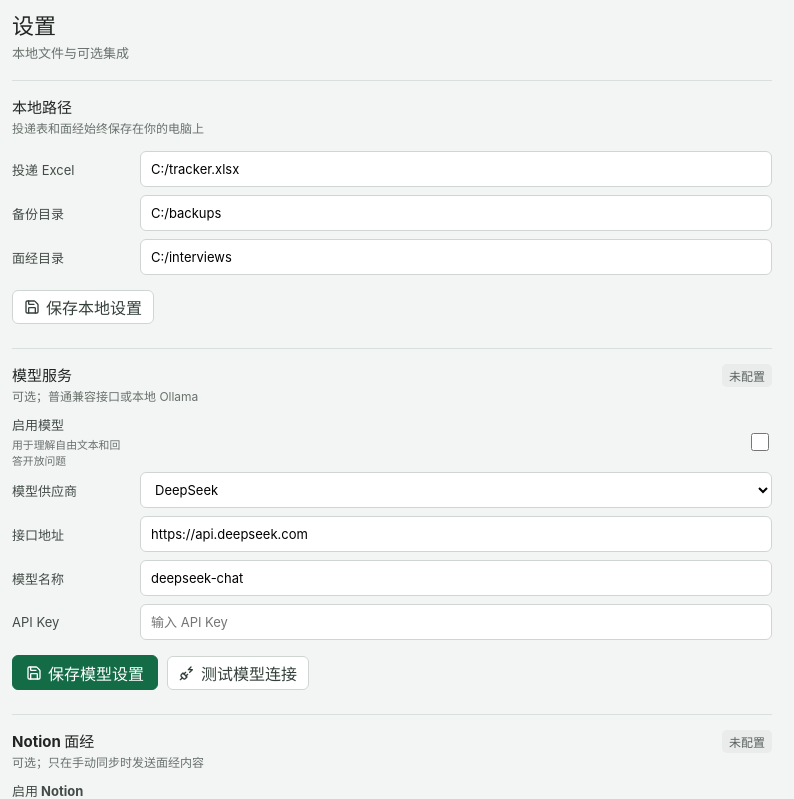
SettingsView integrations › saves a provider key without rendering it back
Step 1. Select "DeepSeek" in the dropdown labelled "模型供应商" → (456, 490), box [140,472,772,508]
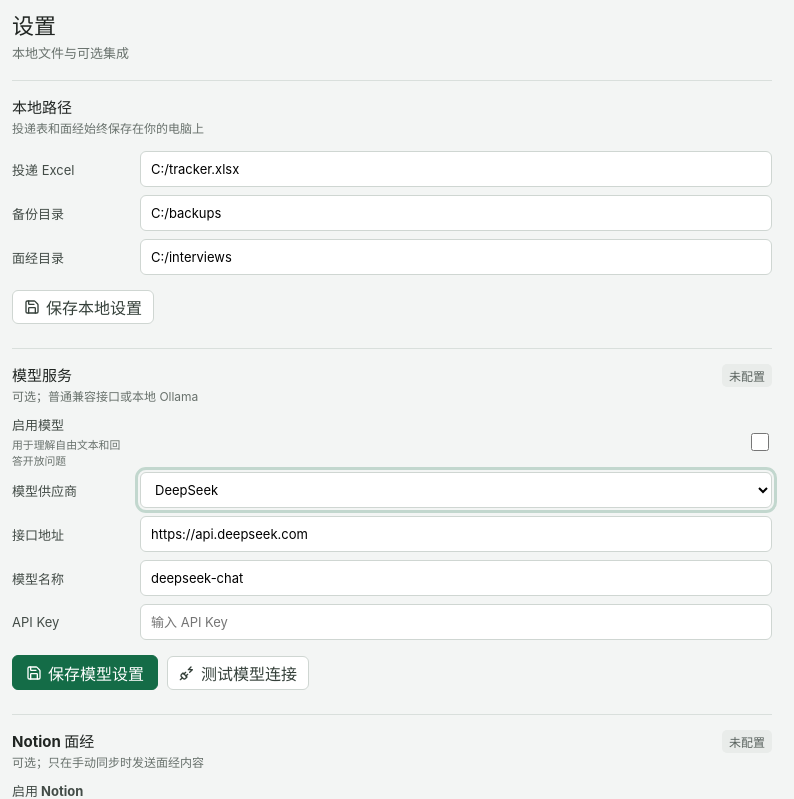
Step 2. Click the checkbox labelled "启用模型" → (760, 442), box [751,432,769,450]
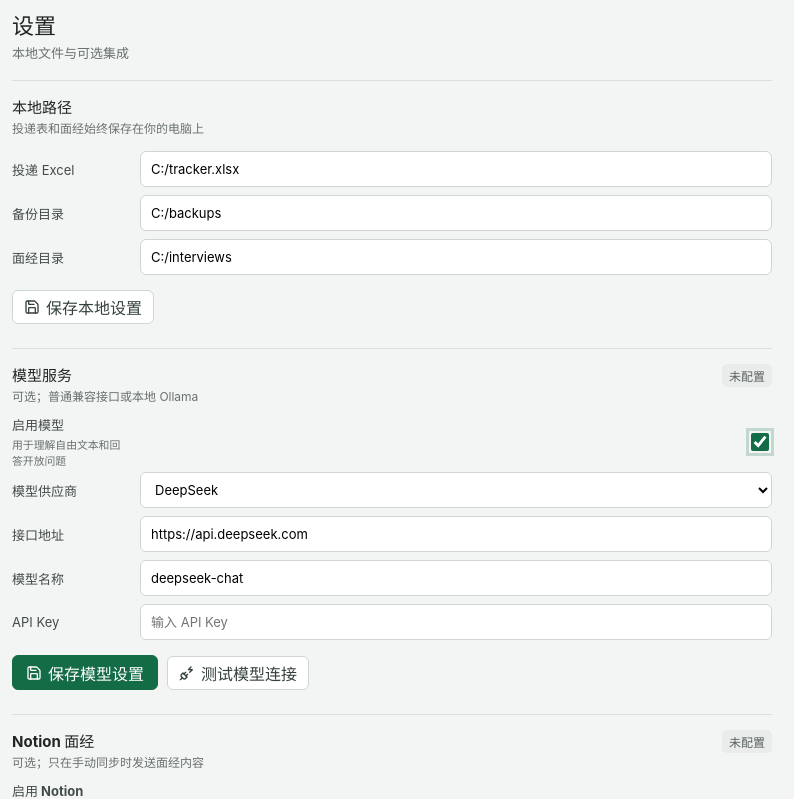
Step 3. Type "secret-value" into the password field labelled "API Key" → (456, 622), box [140,604,772,640]
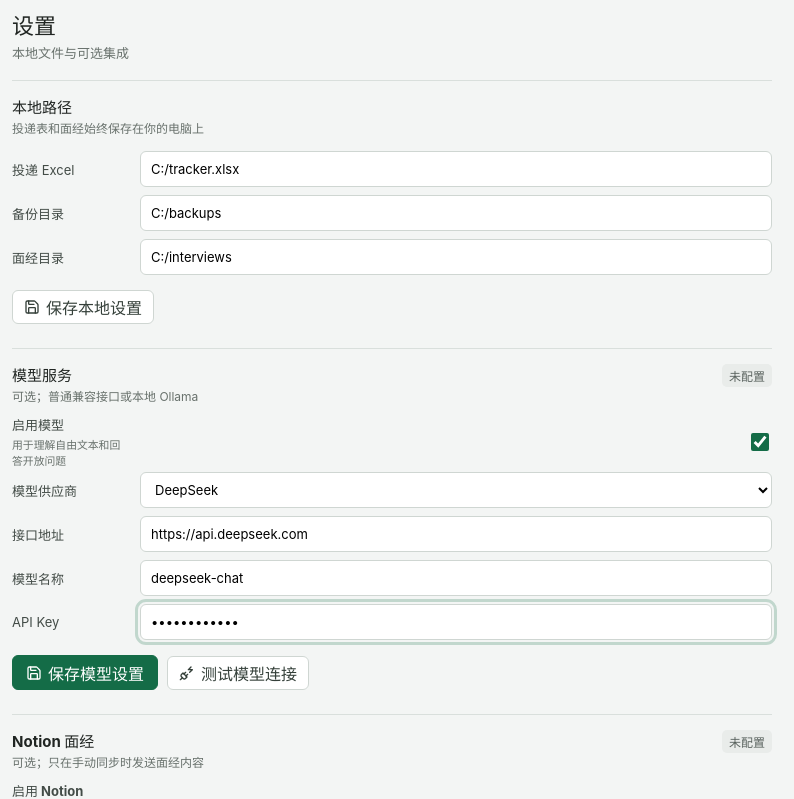
Step 4. Click the button "保存模型设置" → (85, 672), box [12,655,158,690]
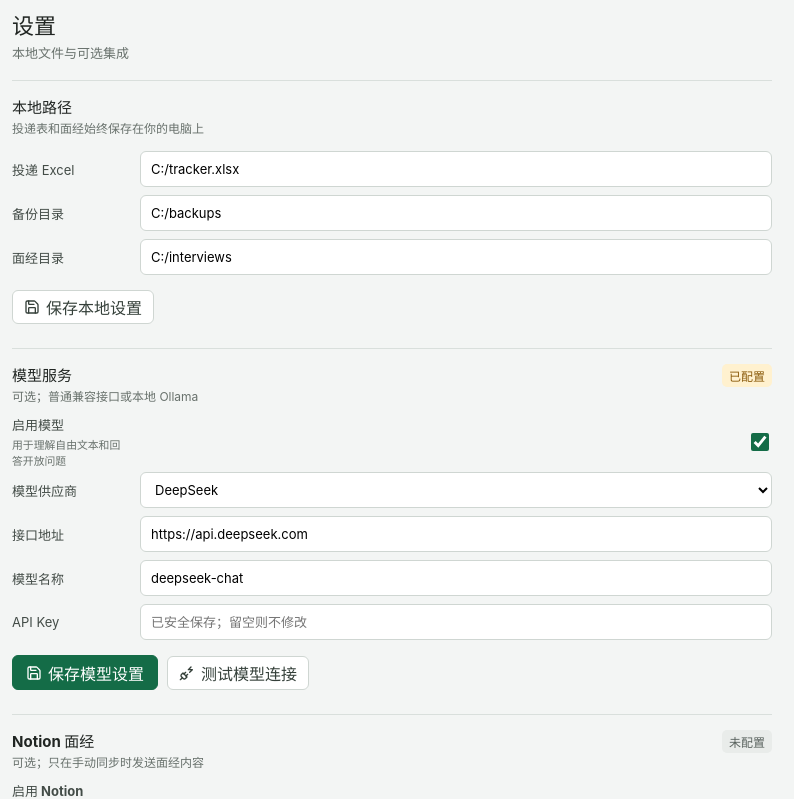
Result: the text "已配置" is shown at [722,364,772,387]
